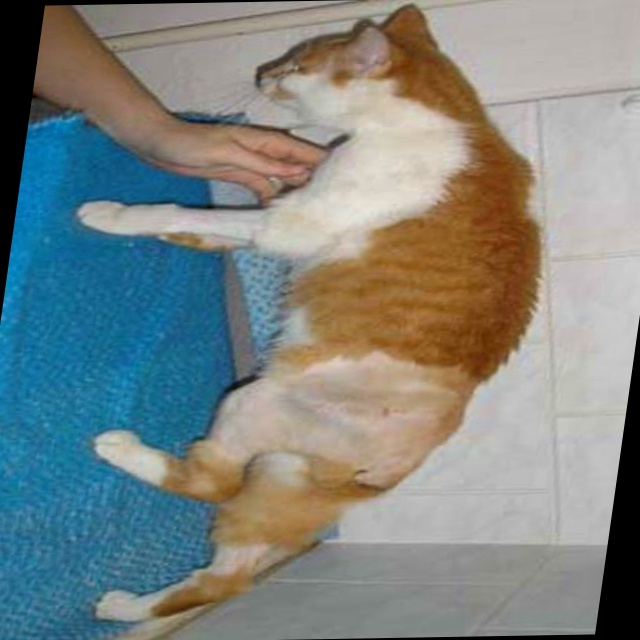hairloss: (223, 91, 442, 246), (216, 360, 465, 462)
